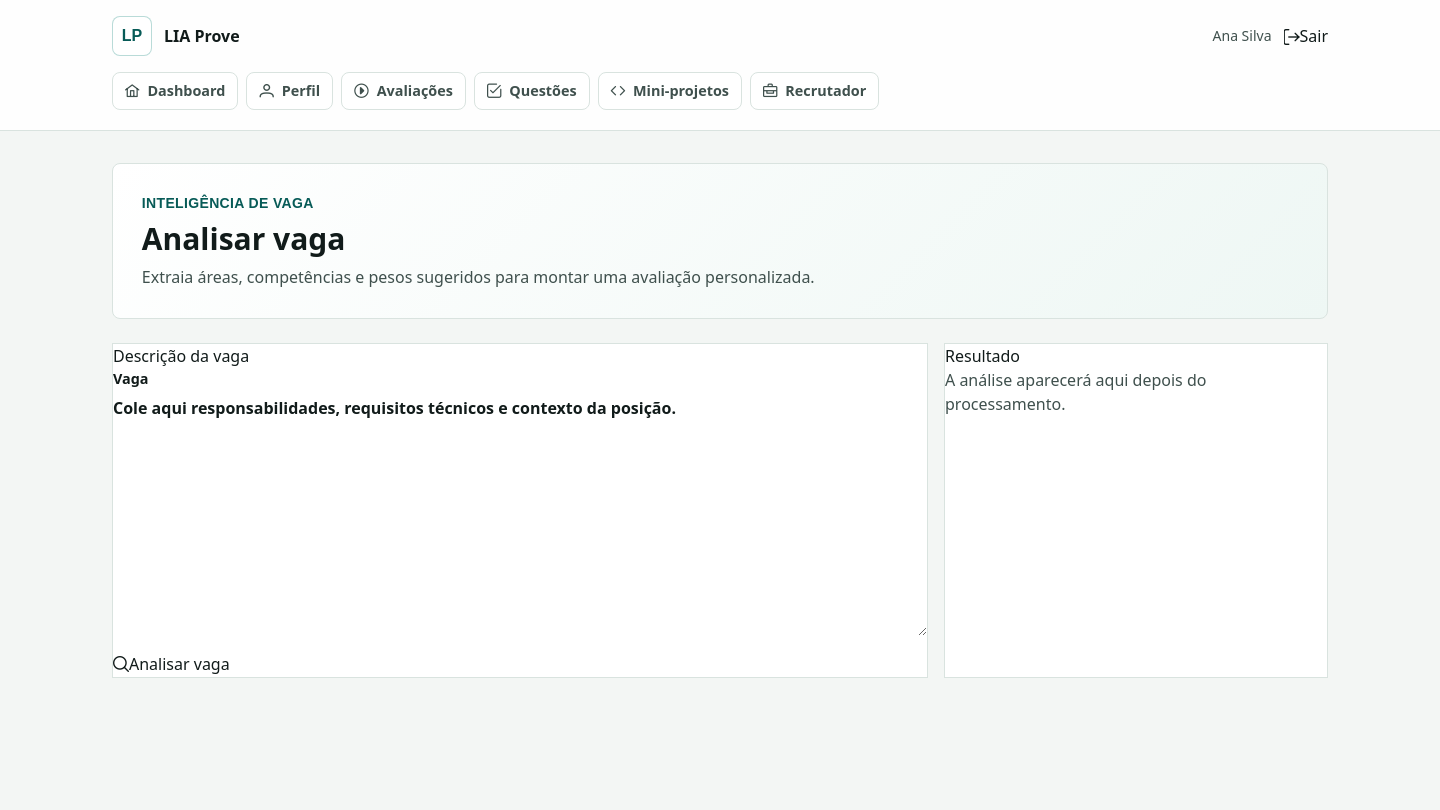
RecruiterJobAnalysisView › validates non-empty job description
What coordinates should you click on to do the following:
click the button with test id "analyze-job-description"
I would click on:
 (171, 664)
Its box is x1=113 y1=652 x2=230 y2=676.
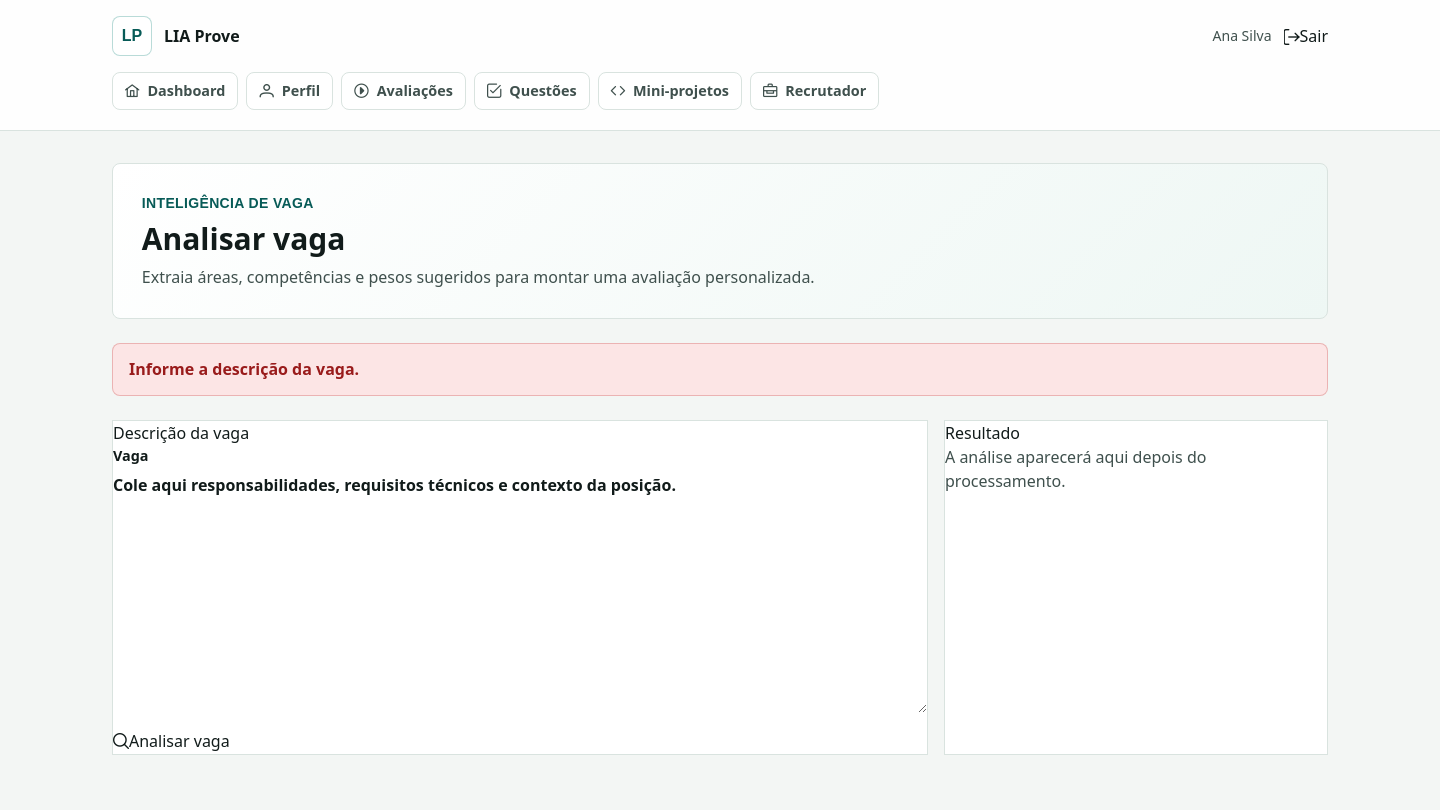
Result: the text "Informe a descrição da vaga" is shown at x1=129 y1=358 x2=359 y2=380
